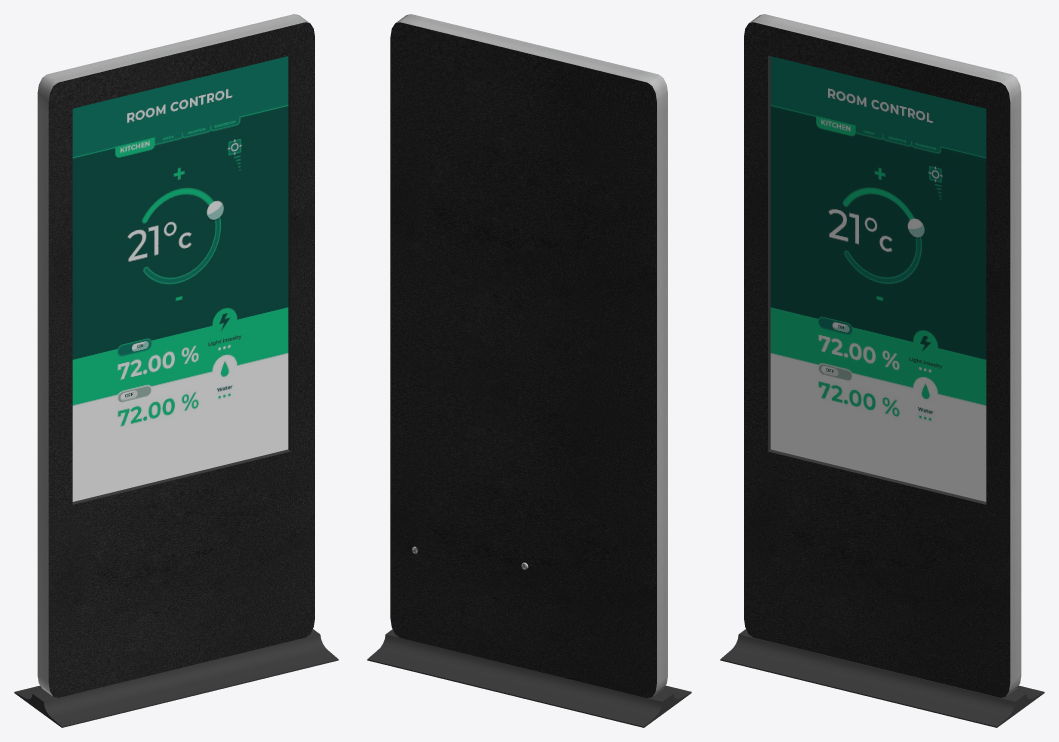
Rendered from interactive_kiosk.glb.
3 renders of one model, left to right at view 1: azimuth 30°, elevation 25°; view 2: azimuth 150°, elevation 25°; view 3: azimuth 330°, elevation 25°, orthographic.
Parts seen in each view (by area): view 1: Cube.000, Cube.001; view 2: Cube.000, Cube.001; view 3: Cube.000, Cube.001.
Boxes of the visible parts, x1=… form: Cube.000: x1=37, y1=14, x2=314, y2=697; Cube.001: x1=14, y1=629, x2=338, y2=727; Cube.000: x1=390, y1=14, x2=667, y2=697; Cube.001: x1=367, y1=629, x2=691, y2=727; Cube.000: x1=744, y1=14, x2=1021, y2=697; Cube.001: x1=720, y1=629, x2=1044, y2=727.
Bounding box in the file's own units: 1.14 × 2.47 × 0.34.
Materials: 6 (5 with a texture image).
